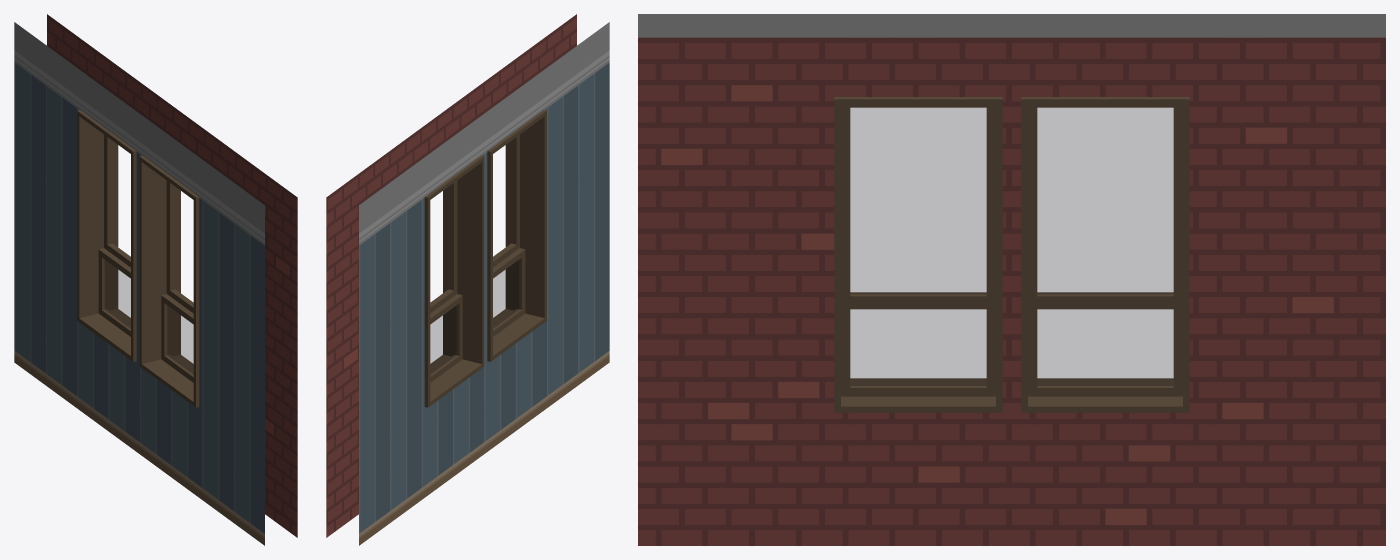
The model's file is SM_window_05.glb.
3 renders of one model, left to right at view 1: azimuth 30°, elevation 25°; view 2: azimuth 150°, elevation 25°; view 3: azimuth 270°, elevation 25°, orthographic. The views are drawn at different scales.
Visible parts, largest first — view 1: SM_window_05; view 2: SM_window_05; view 3: SM_window_05.
Part boxes in pixels (<box>): SM_window_05: <box>14,14,297,545</box>; SM_window_05: <box>326,14,609,545</box>; SM_window_05: <box>638,14,1385,545</box>.
Size of the model in its own units: 0.36 by 3 by 4.
4 materials, 3 textured.
